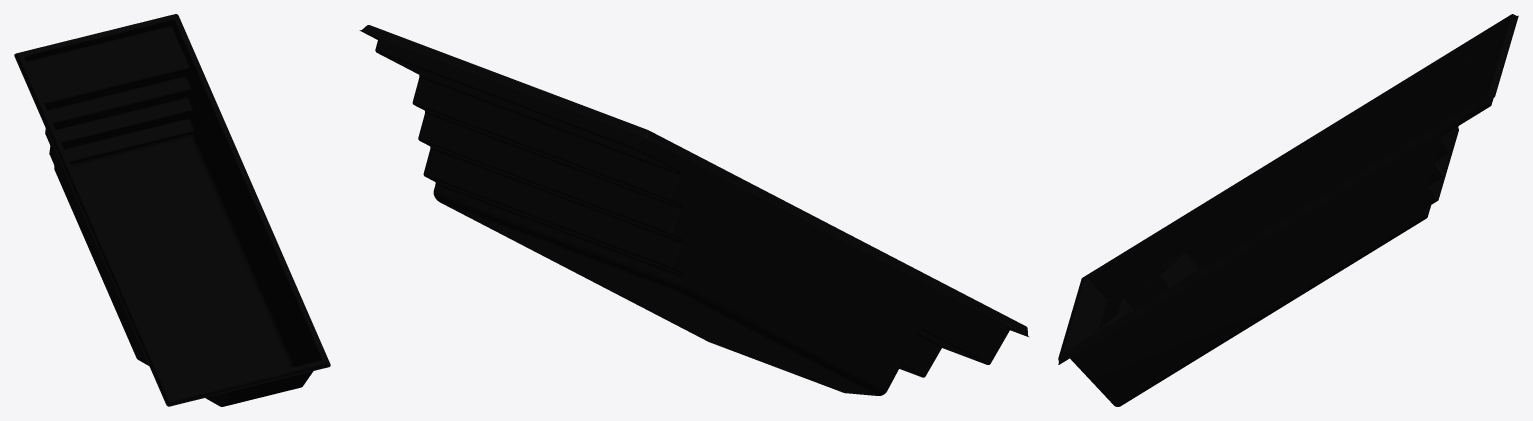
The model's file is Biloxi.glb.
3 renders of one model, left to right at view 1: azimuth 30°, elevation 25°; view 2: azimuth 150°, elevation 25°; view 3: azimuth 270°, elevation 25°, orthographic. The views are drawn at different scales.
Parts seen in each view (by area): view 1: node_id4; view 2: node_id4; view 3: node_id4.
Boxes of the visible parts, bbox=[...] form: node_id4: bbox=[14, 14, 330, 406]; node_id4: bbox=[359, 25, 1029, 395]; node_id4: bbox=[1058, 14, 1518, 406].
Bounding box in the file's own units: 0.5524 × 0.8033 × 1.
1 material, 1 textured.
